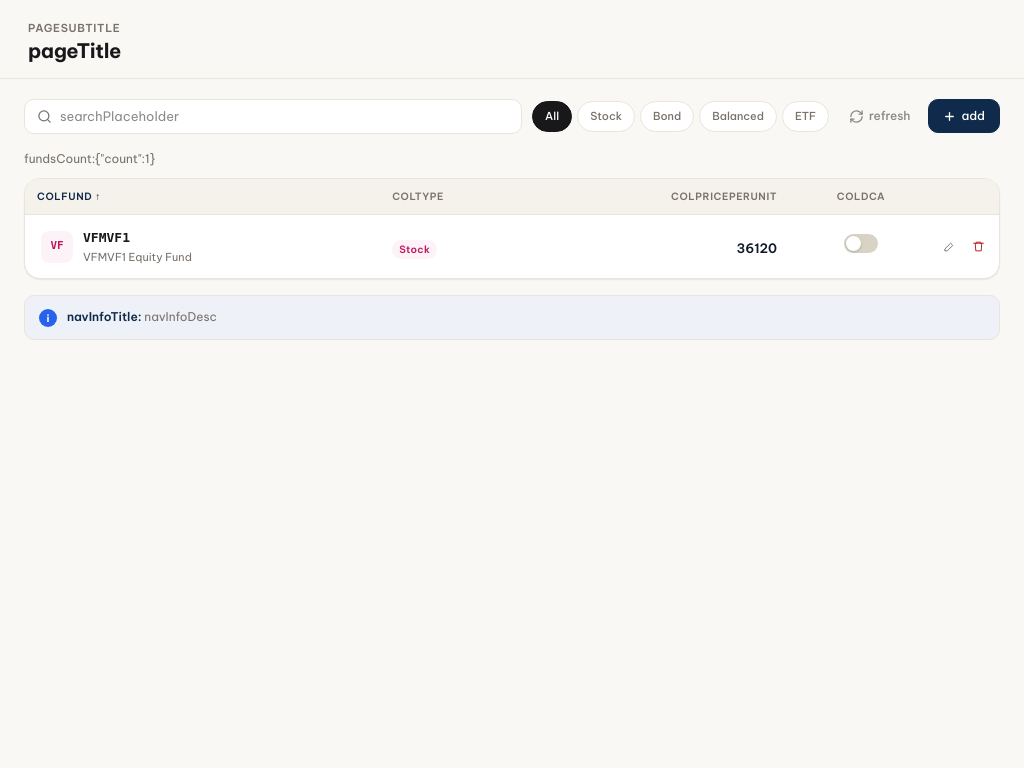
Test: DesktopFundLibraryView — dialog accessible names › the delete modal has an accessible name and a labelled close button
Click the button with test id "fund-delete-btn" at (978, 246), box x1=966 y1=234 x2=991 y2=259
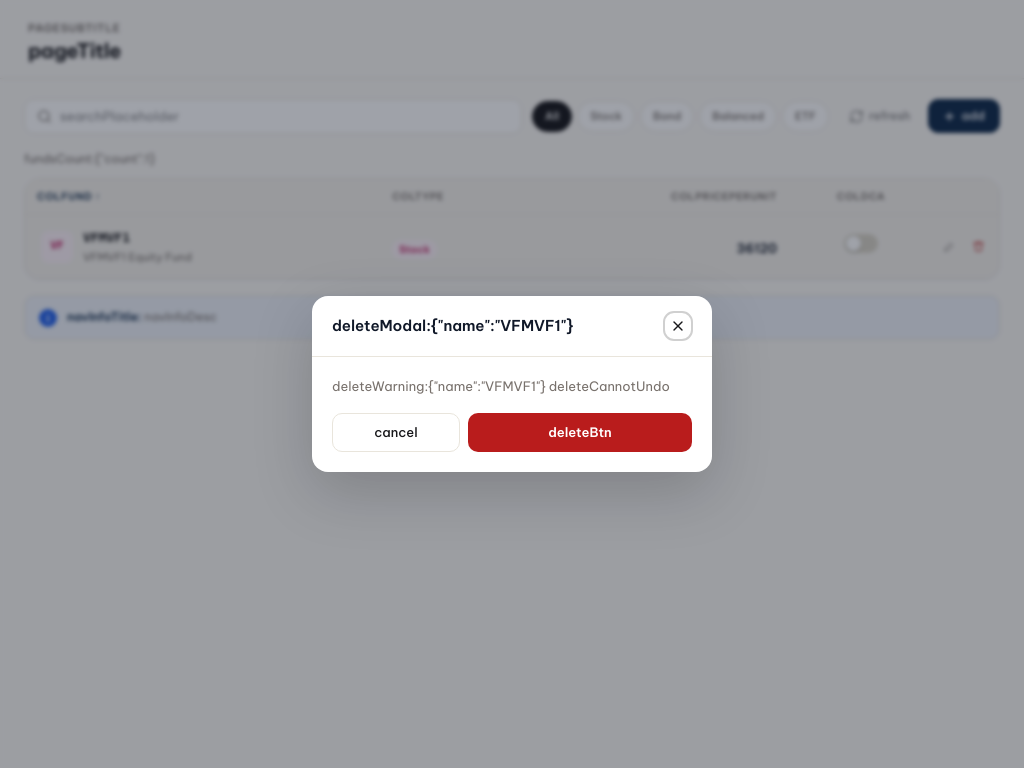
Expected: the button named "Close" is shown, x1=664 y1=312 x2=692 y2=340
